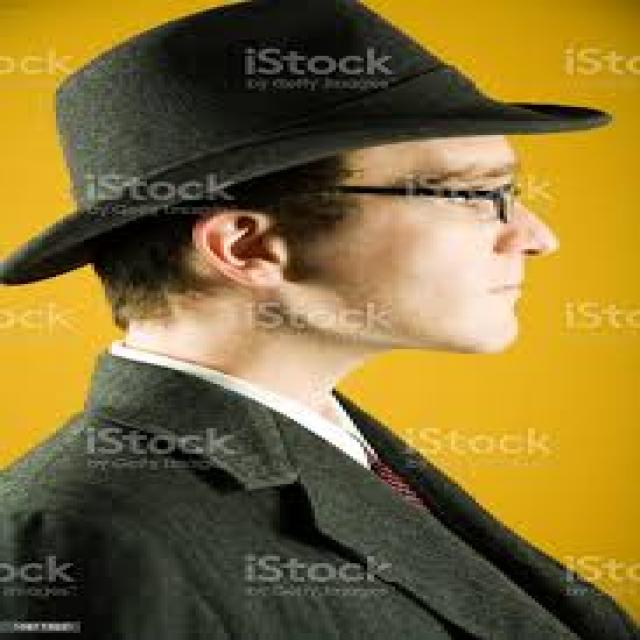hat: (4, 2, 622, 363)
